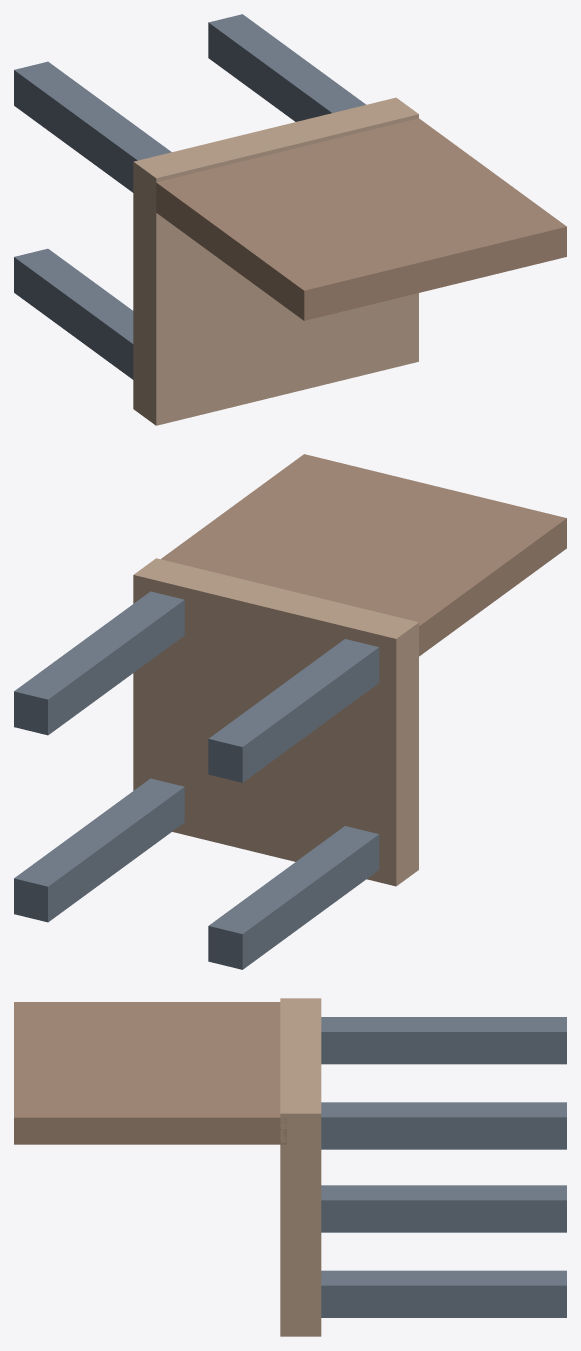
Rendered from bamboo_bench.glb.
3 renders of one model, top to bottom at view 1: azimuth 30°, elevation 25°; view 2: azimuth 150°, elevation 25°; view 3: azimuth 270°, elevation 25°, orthographic. The views are drawn at different scales.
Parts seen in each view (by area): view 1: wood, wood2, metal; view 2: wood2, metal, wood; view 3: metal, wood, wood2.
Part boxes in pixels (x1=…): wood: x1=152, y1=118, x2=566, y2=320; wood2: x1=133, y1=97, x2=418, y2=425; metal: x1=14, y1=14, x2=365, y2=379; wood2: x1=133, y1=558, x2=418, y2=886; metal: x1=14, y1=591, x2=379, y2=969; wood: x1=161, y1=454, x2=566, y2=656; metal: x1=321, y1=1017, x2=566, y2=1317; wood: x1=14, y1=1002, x2=286, y2=1144; wood2: x1=280, y1=998, x2=321, y2=1336.
Bounding box in the file's own units: 1 × 0.9 × 2.03.
